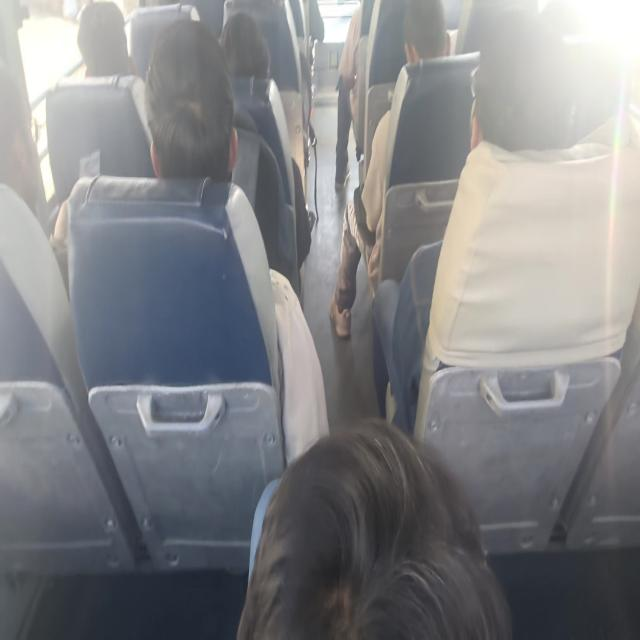person: (53, 17, 330, 464), (372, 6, 636, 437), (237, 416, 512, 638), (329, 0, 450, 338), (218, 11, 314, 272), (143, 17, 239, 182), (334, 3, 362, 191), (76, 1, 133, 77)
